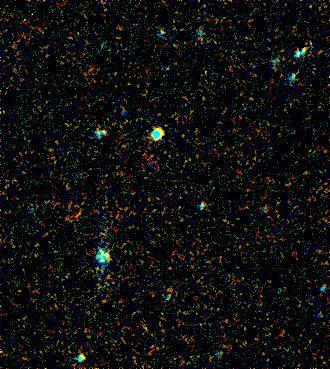star: (91, 247, 121, 277)
